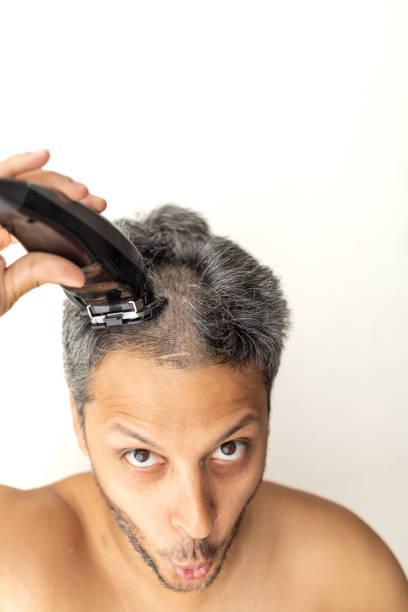low hair density: (157, 256, 193, 304)
